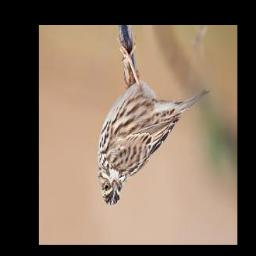Sparrow: (98, 34, 210, 206)
